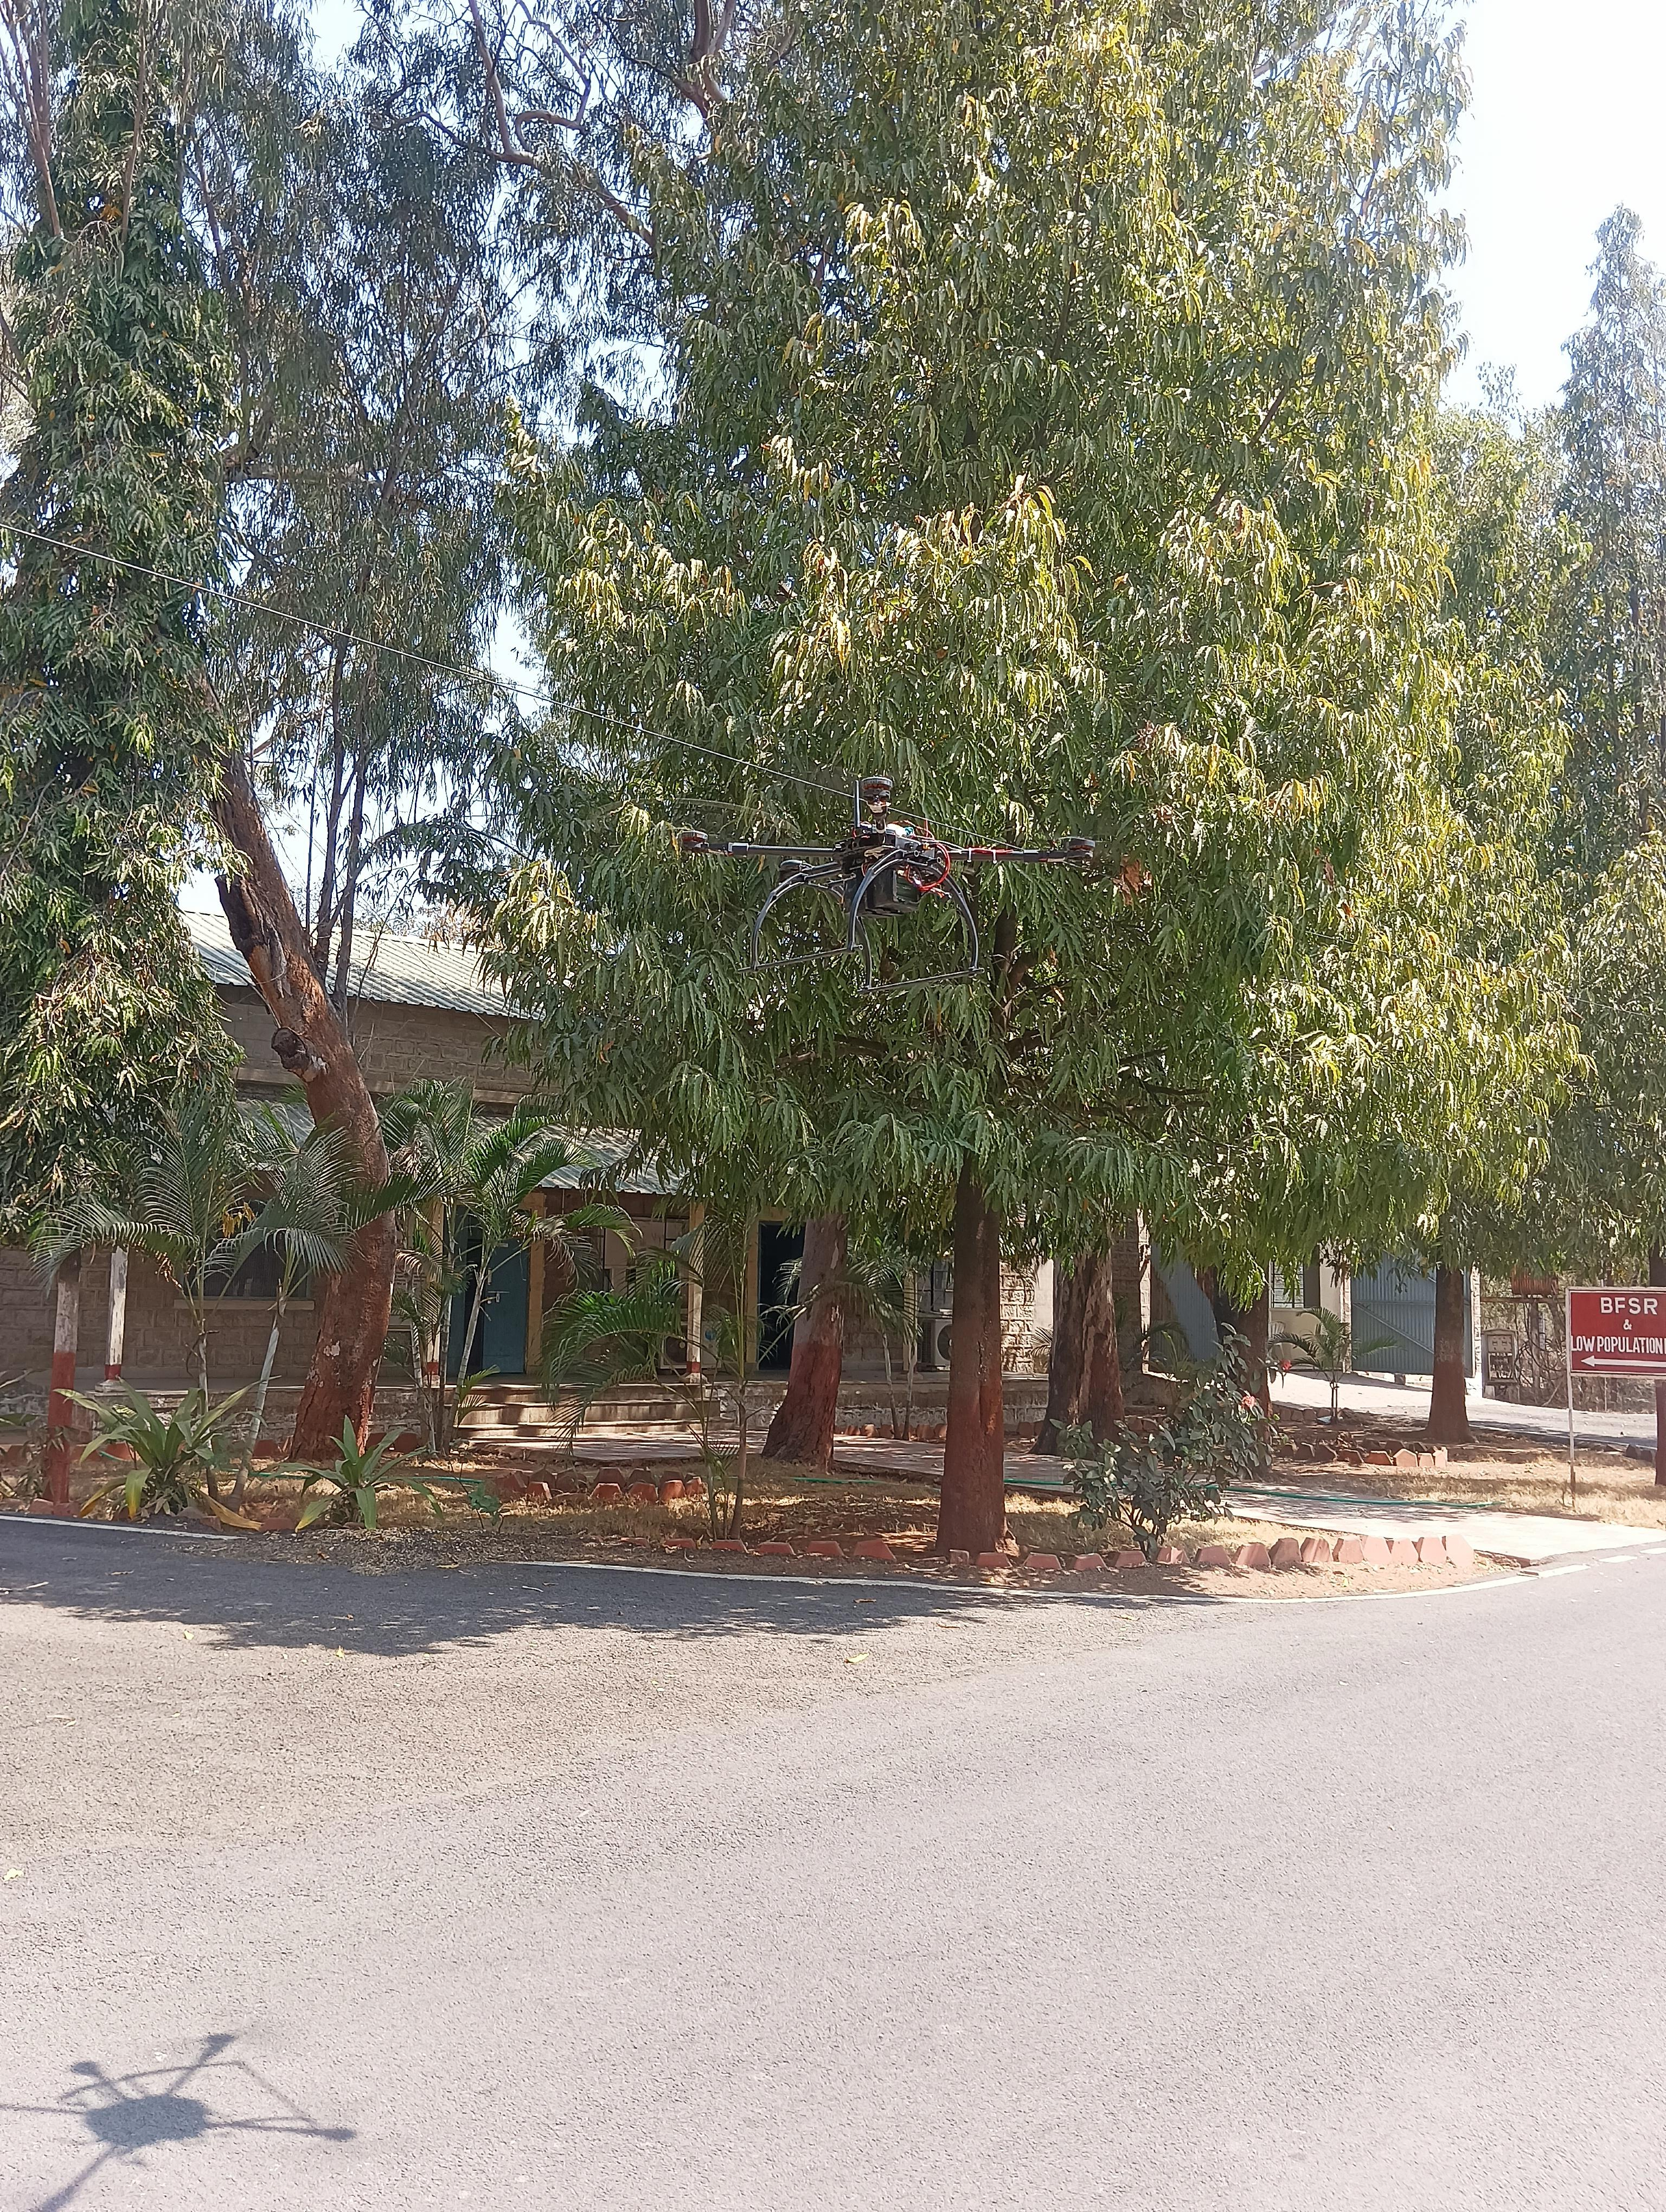drone: (651, 727, 1181, 1023)
